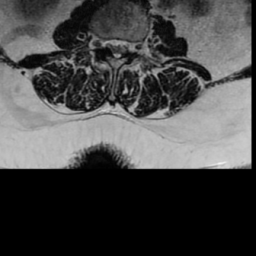CCS_normal: (113, 30, 119, 66)
LFS_normal: (128, 31, 137, 59)
LLS_normal: (119, 31, 128, 62)
RFS_normal: (97, 27, 105, 55)
RLS_normal: (105, 32, 113, 56)
